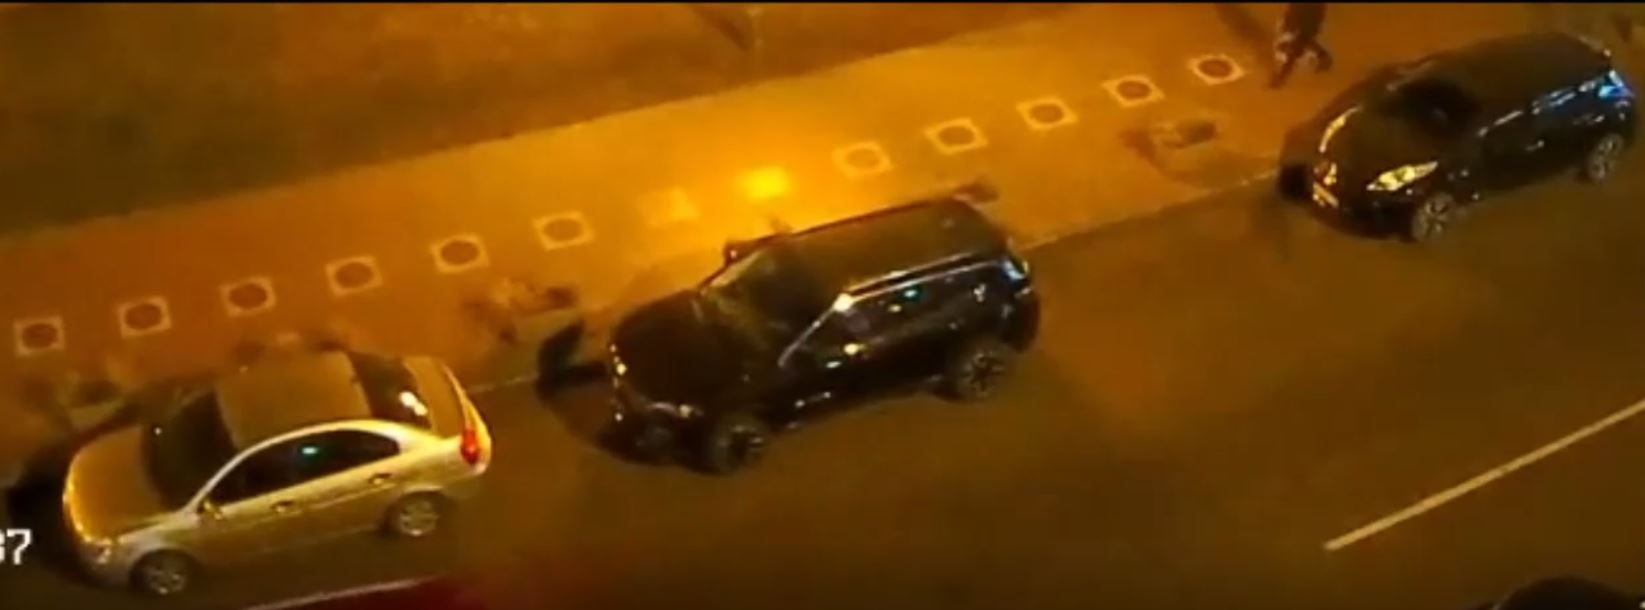car: (603, 198, 1041, 474), (59, 350, 495, 600), (1308, 31, 1636, 241)
